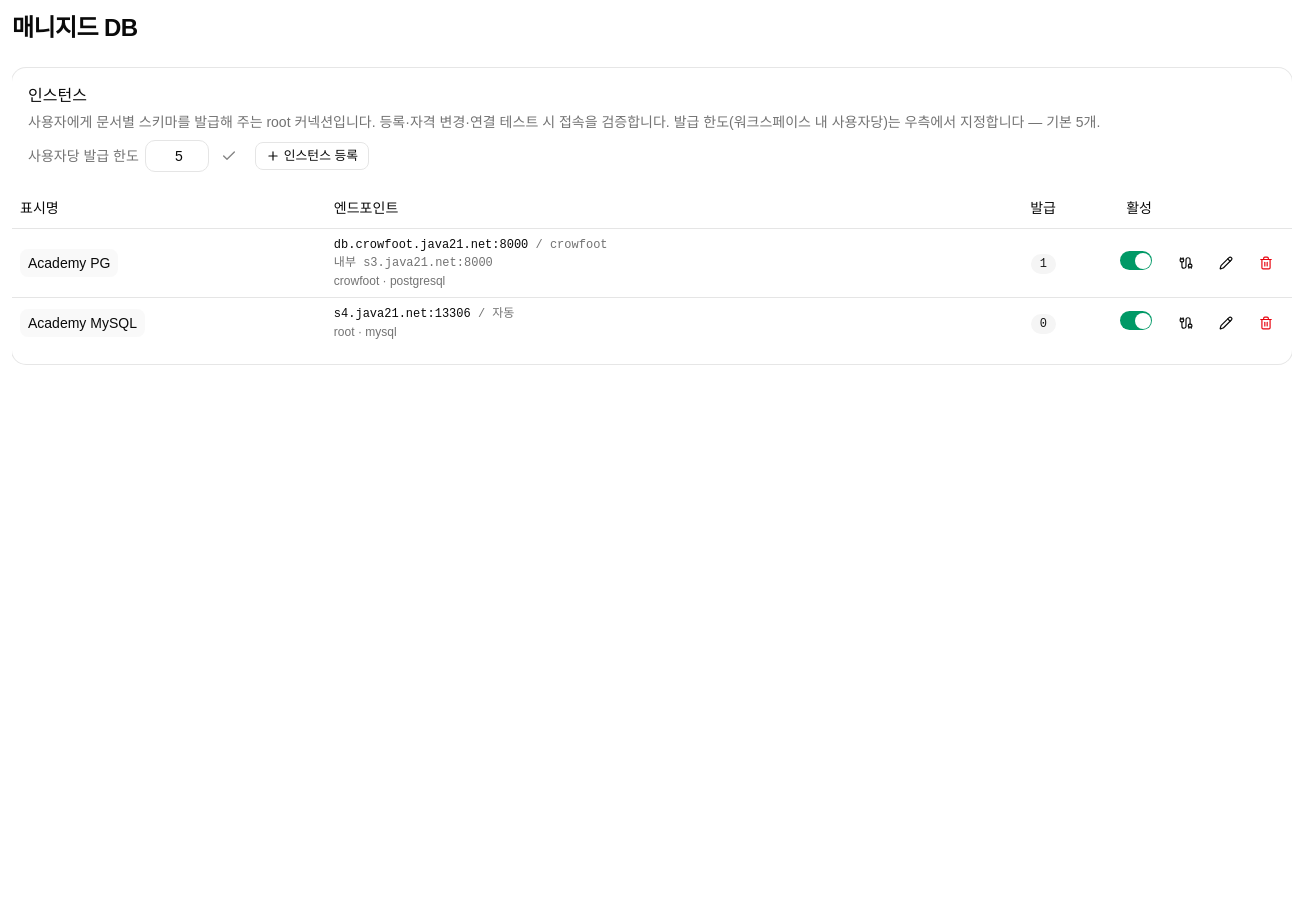
Test: 매니지드 인스턴스 관리 화면 › 활성 토글 — 즉시 PATCH로 isActive를 전송한다
This screenshot has width=1292, height=912.
Click the switch named "Academy PG".
click(1136, 261)  # box [1120,251,1152,270]
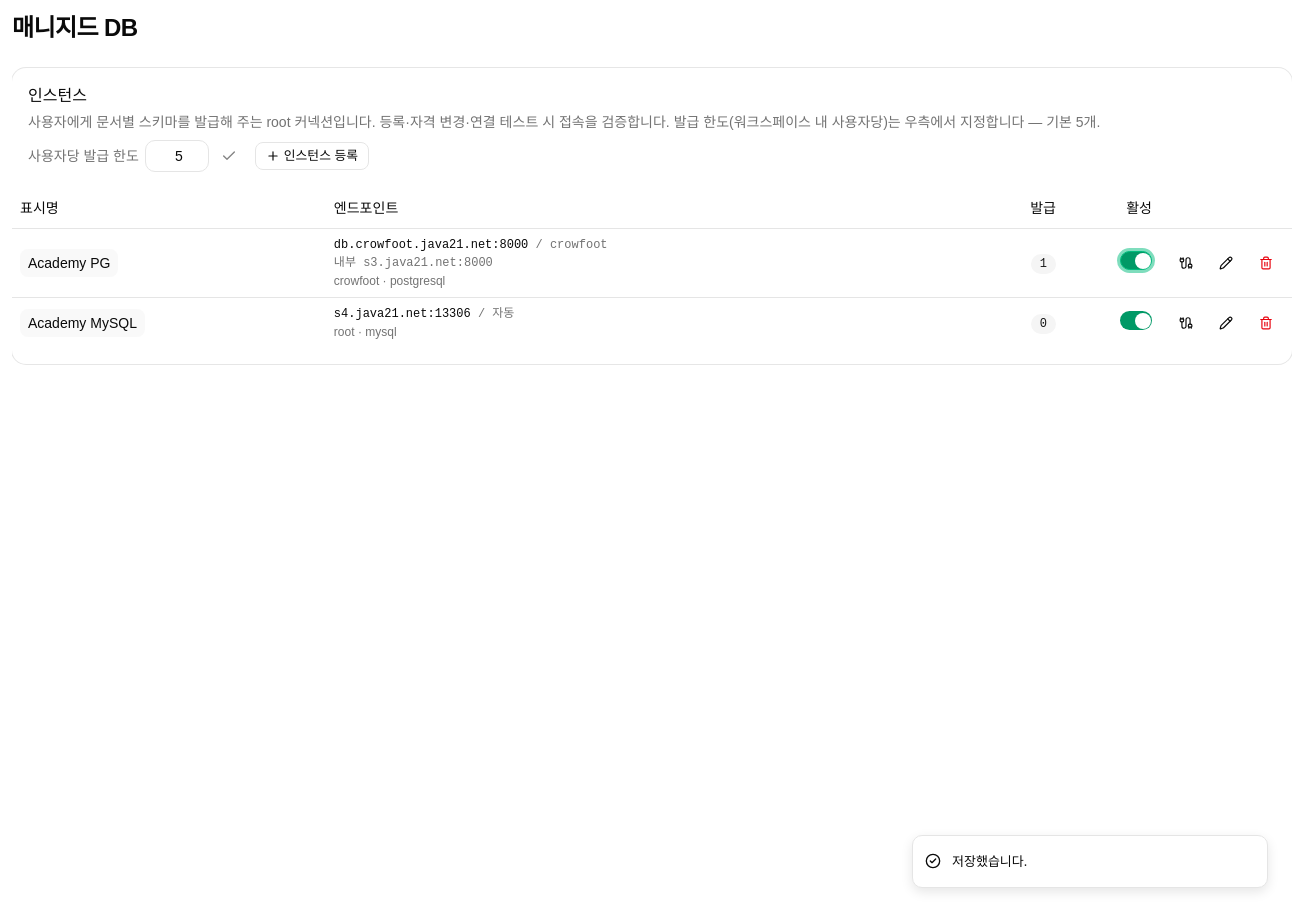
Now the text "저장했습니다." is shown, box [952,852,1027,871]
